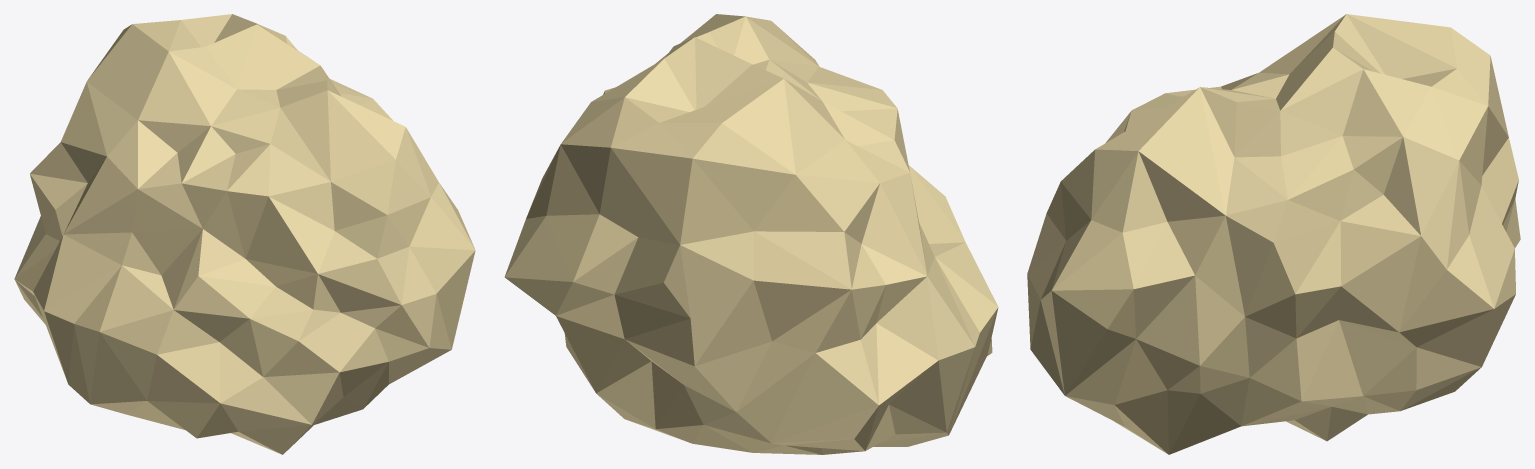
Rendered from Asteroid (83).fbx.
3 views of the same model, side by side, from view 1: azimuth 30°, elevation 25°; view 2: azimuth 150°, elevation 25°; view 3: azimuth 270°, elevation 25° (orthographic). The views are drawn at different scales.
Parts seen in each view (by area): view 1: Asteroid215; view 2: Asteroid215; view 3: Asteroid215.
Part boxes in pixels (<box>): Asteroid215: <box>14,14,475,454</box>; Asteroid215: <box>504,14,998,454</box>; Asteroid215: <box>1027,14,1520,454</box>.
Size of the model in its own units: 365 by 354 by 392.
